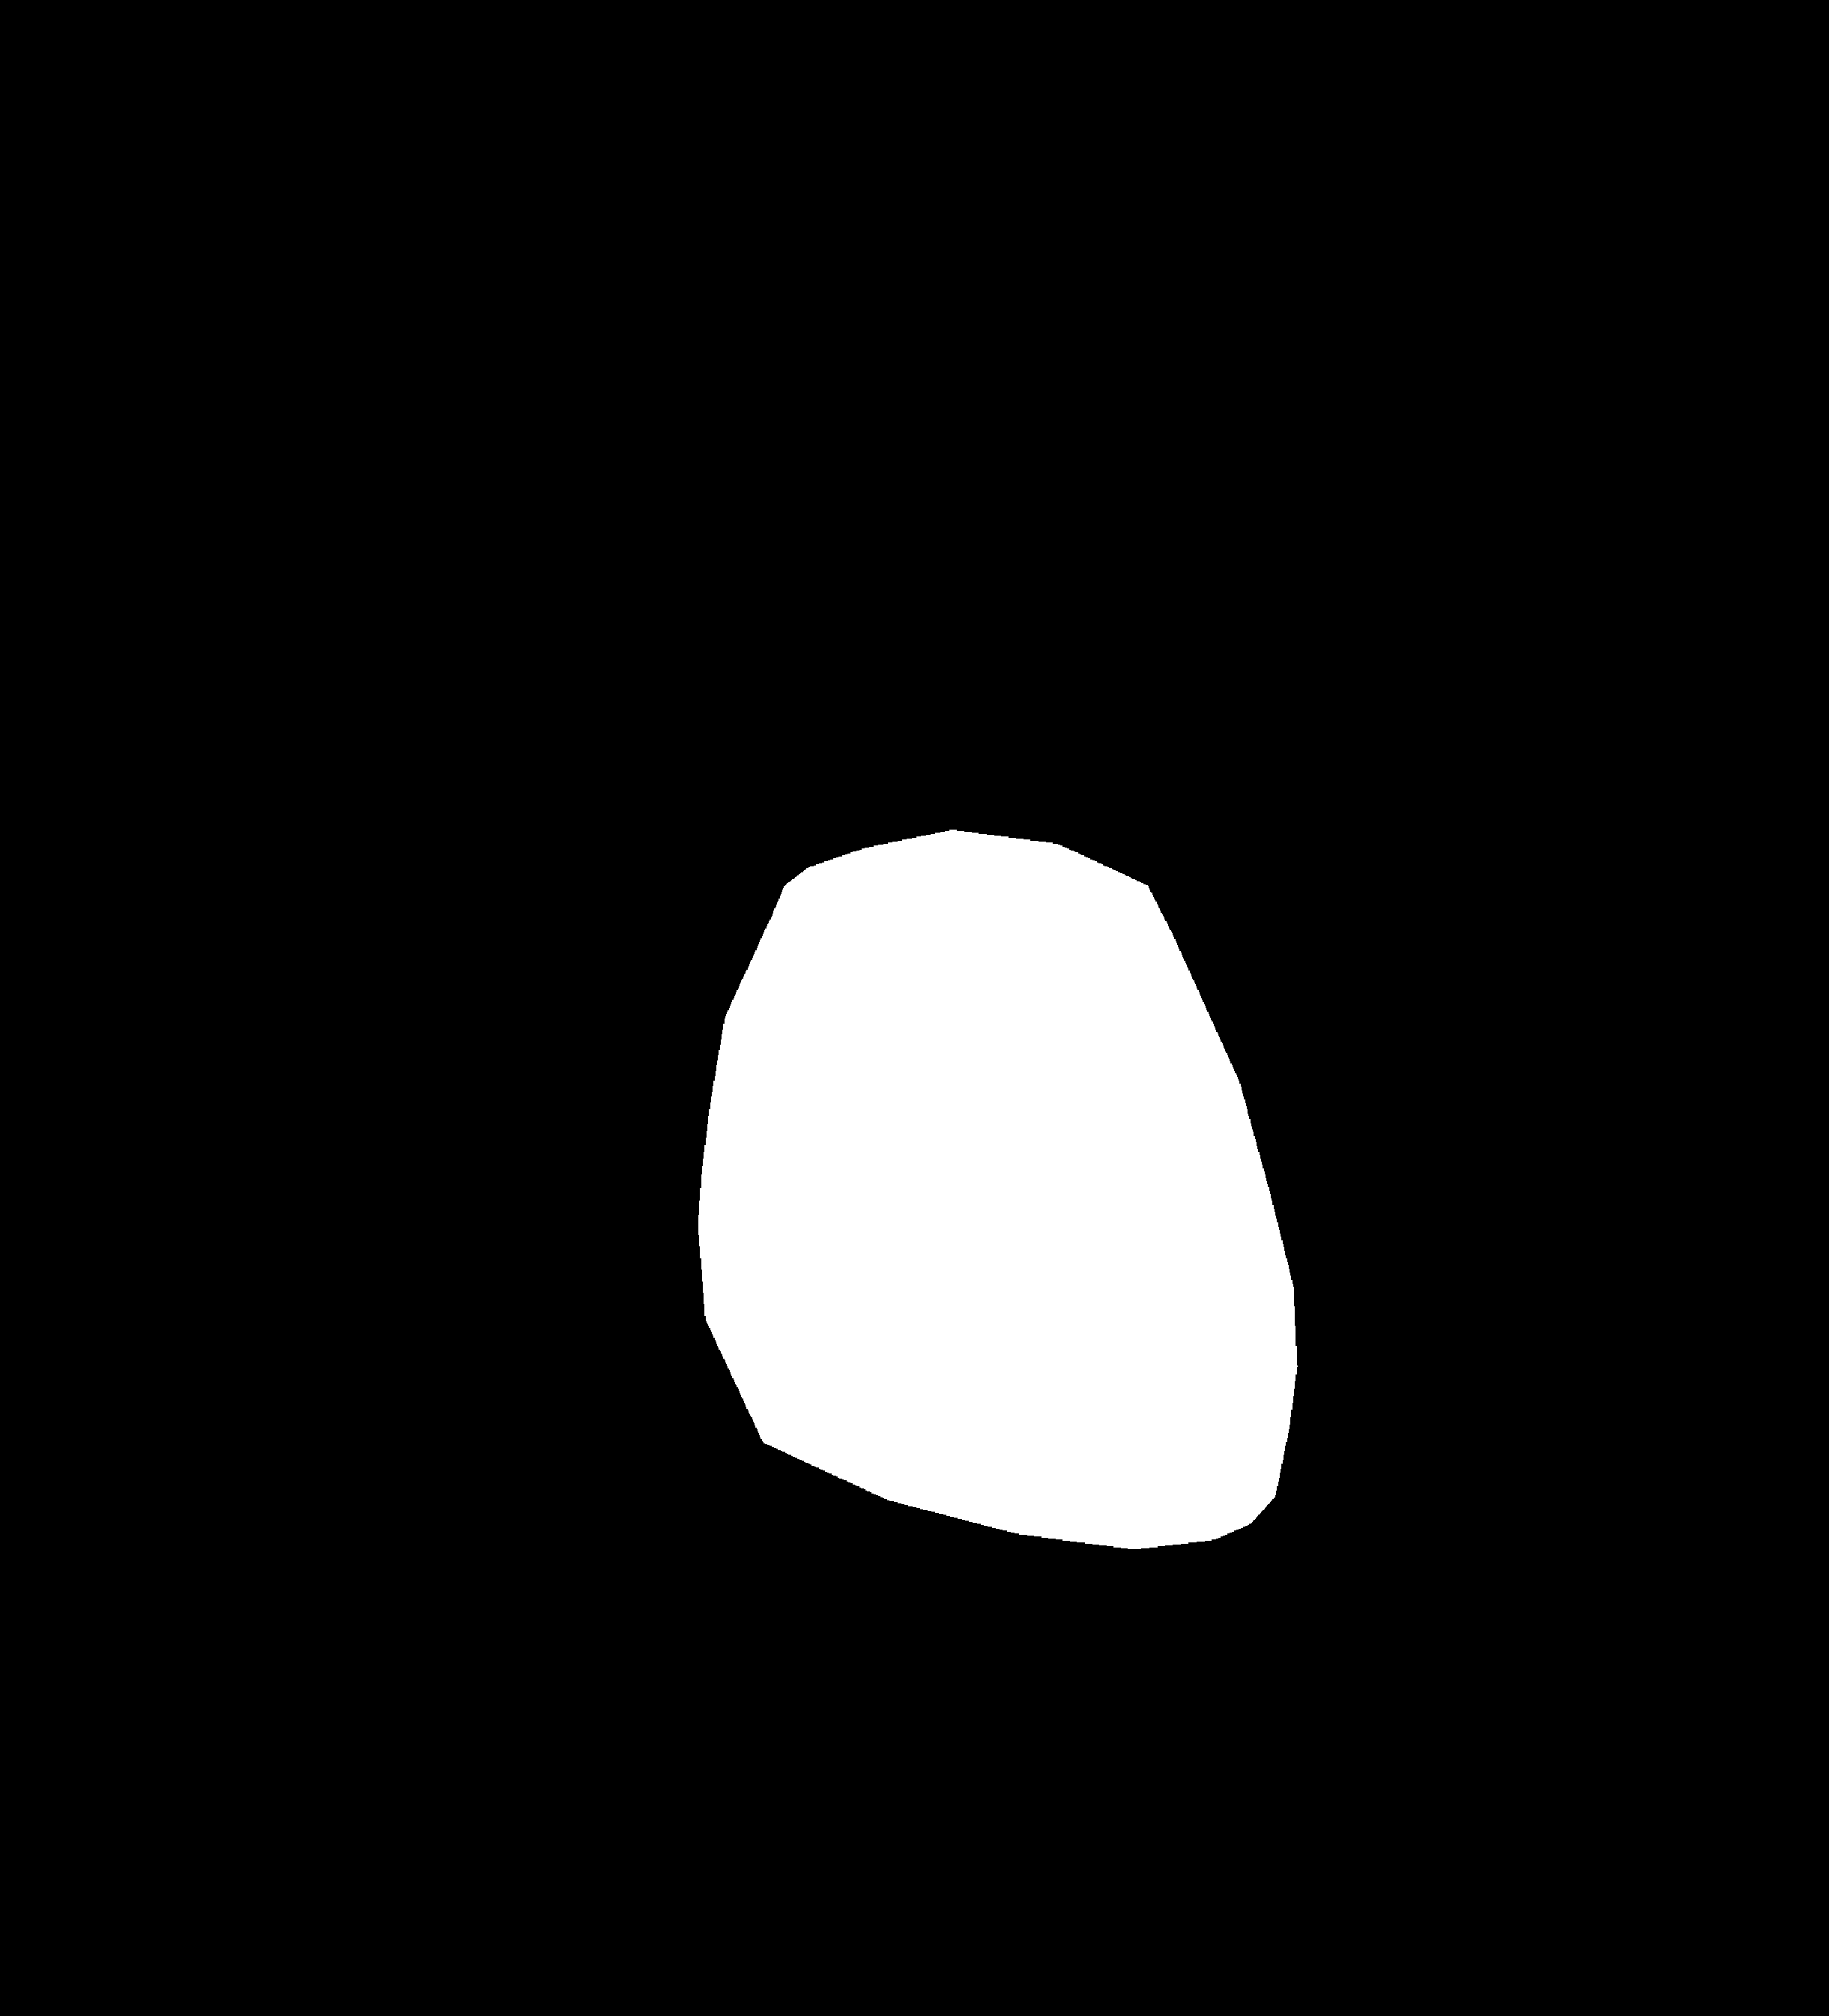heart: (697, 887, 1294, 1507)
left_lung: (209, 198, 851, 1408)
right_lung: (992, 183, 1655, 1818)
